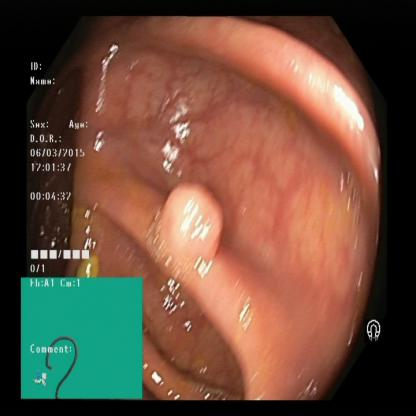Labels: (30, 57, 99, 278), (22, 278, 142, 400), (364, 306, 394, 350)
Polyps: (150, 174, 249, 268)
